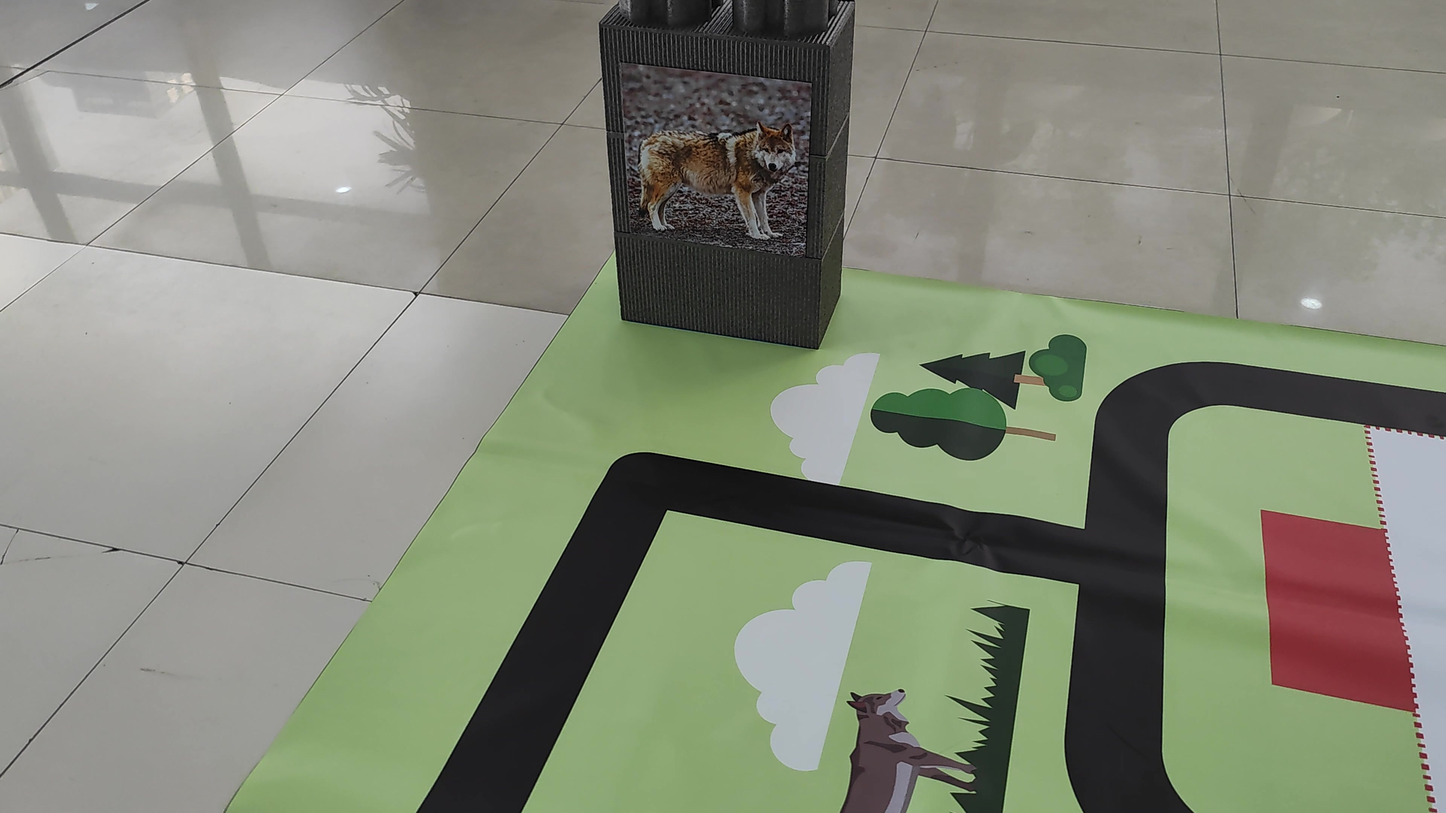wolf: (628, 84, 799, 244)
